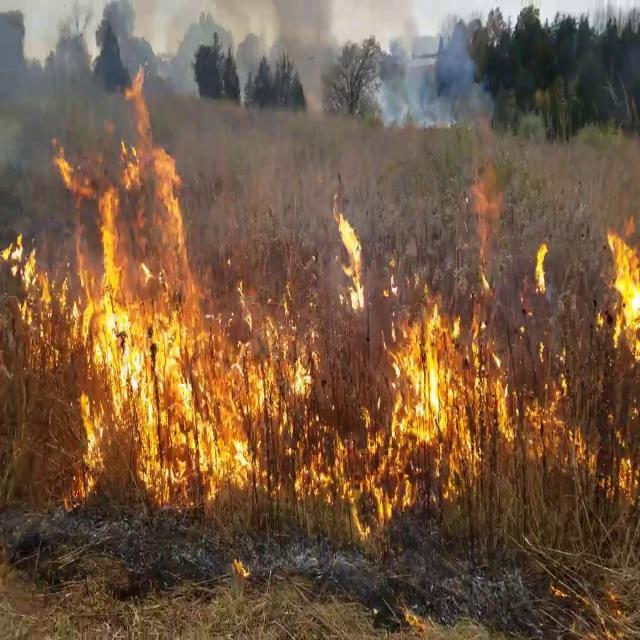Fire: (2, 86, 314, 507), (373, 164, 513, 502), (594, 206, 640, 498), (332, 199, 368, 316), (532, 234, 552, 298)
Smoke: (371, 0, 494, 133)
